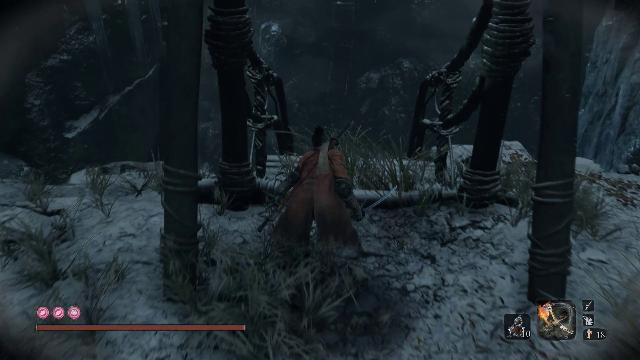sk: (256, 120, 366, 265)
